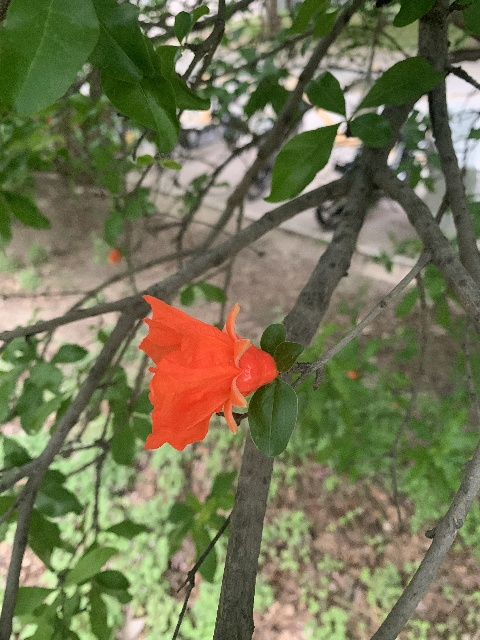flower: (136, 294, 277, 453)
